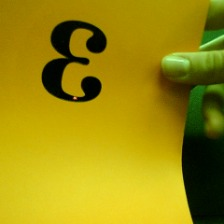orange3: (40, 15, 110, 110)
